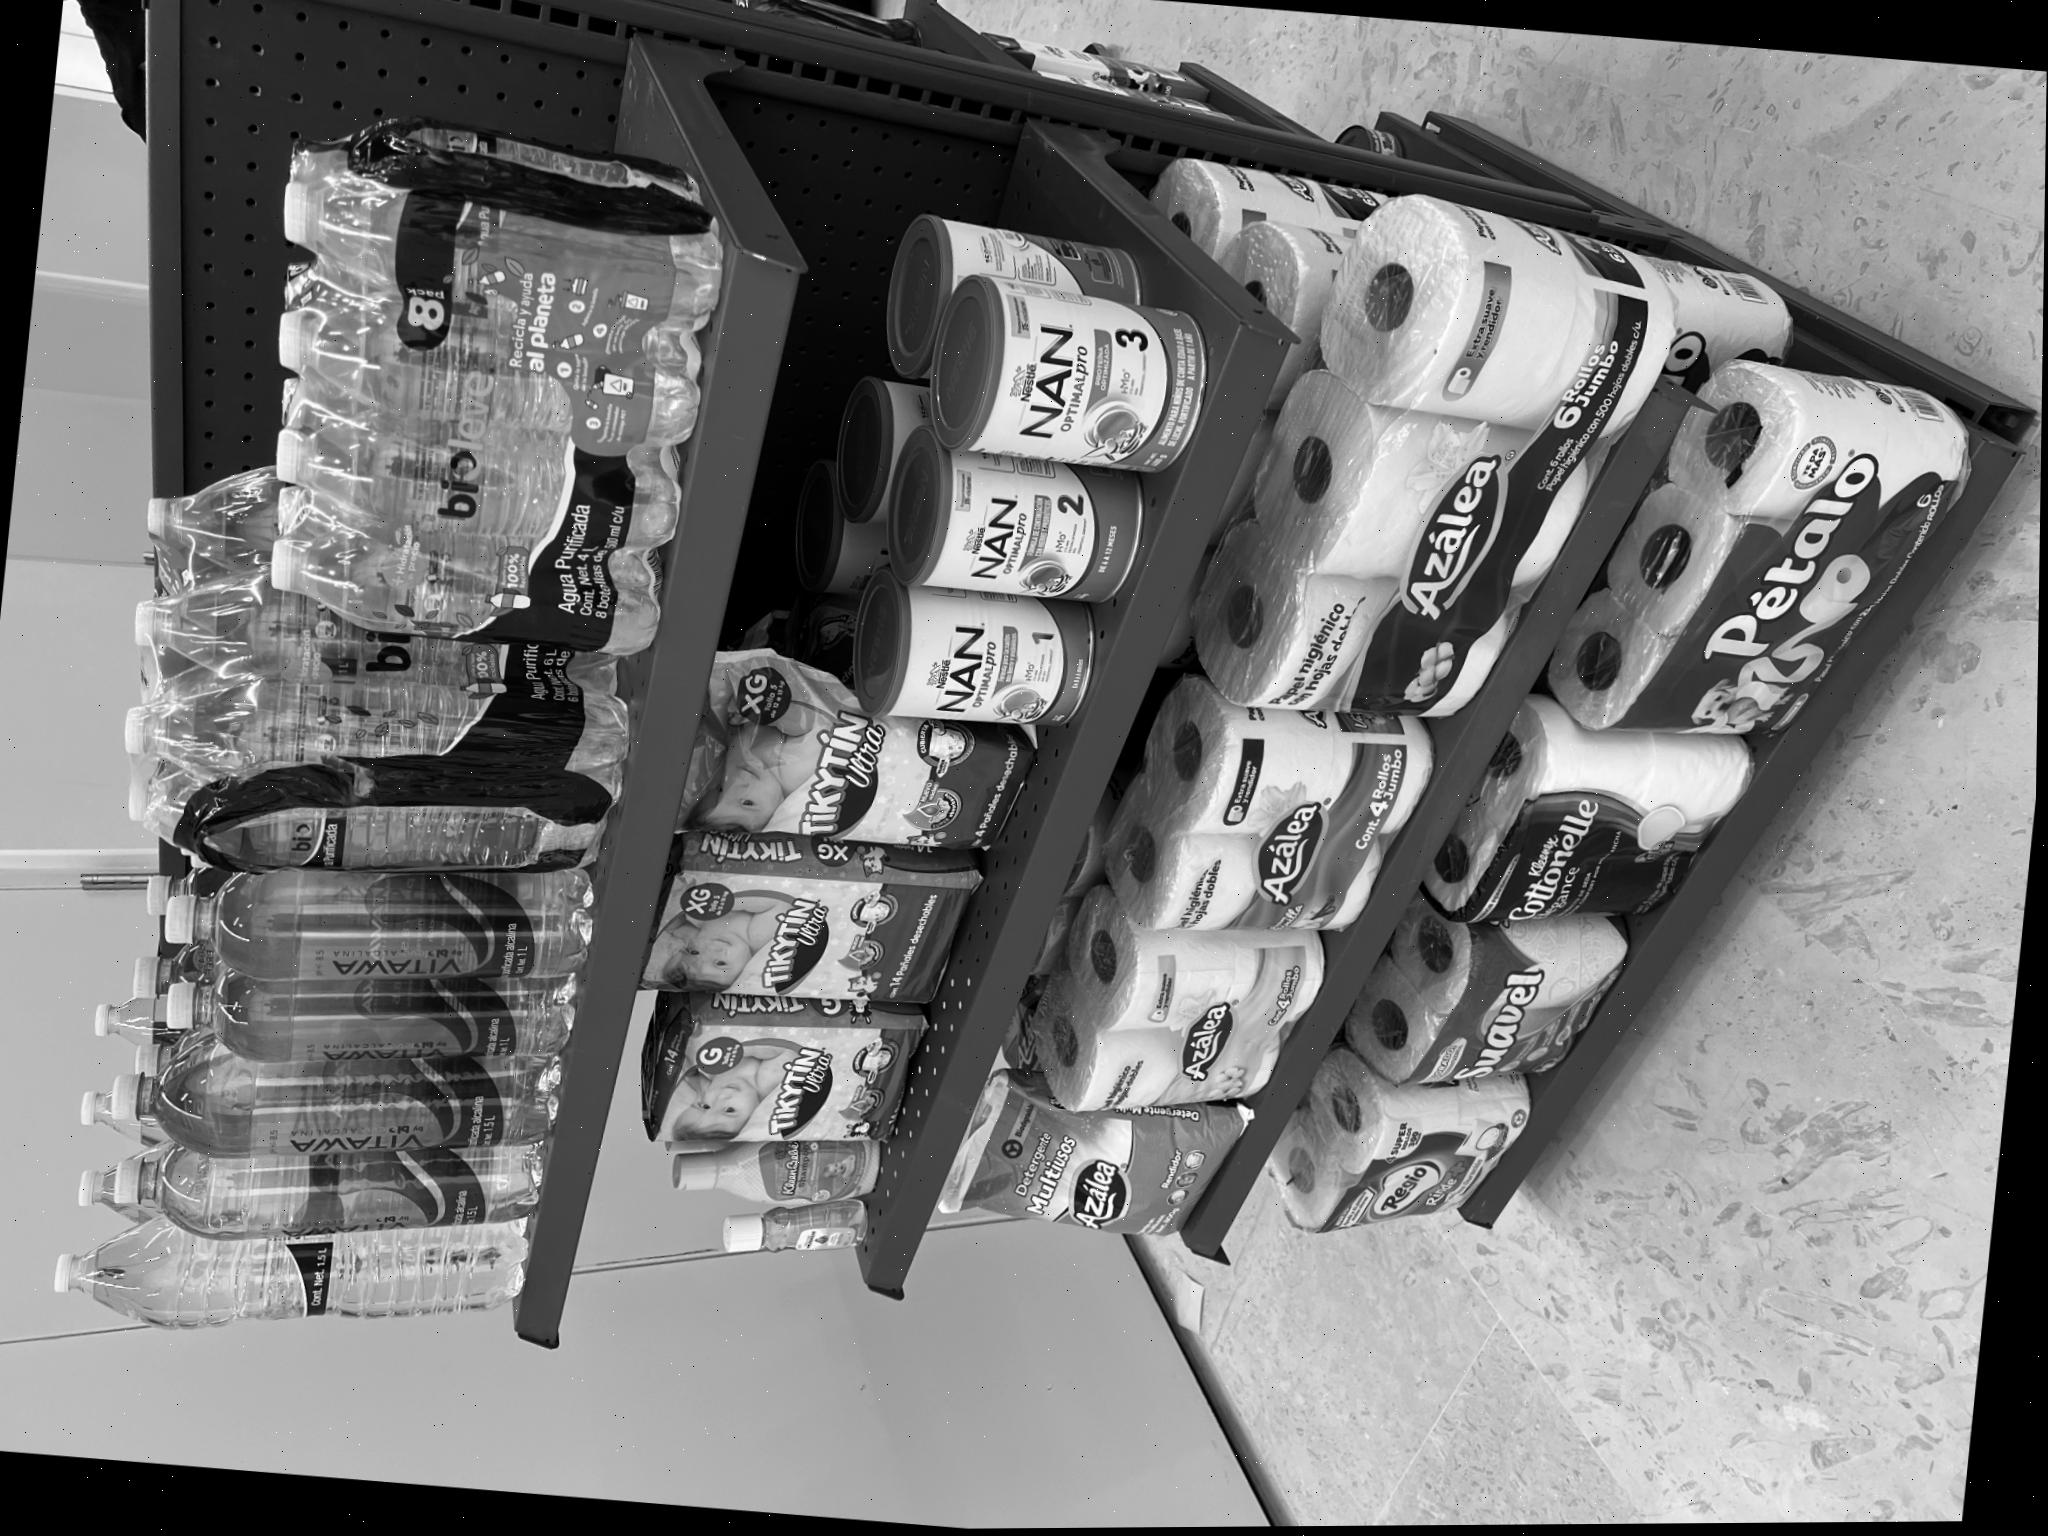aceite_bebe_mennen: (240, 750, 274, 857)
agua_bioleve: (185, 127, 273, 520)
agua_bioleve_6pack: (851, 307, 1334, 687), (639, 134, 813, 602)
agua_vitawa_1L: (524, 232, 635, 573), (440, 223, 527, 555)
agua_vitawa_1_5L: (363, 179, 447, 553), (282, 171, 358, 529)
detergente_azaela: (253, 952, 411, 1234)
nan_nestle_1: (768, 873, 900, 1068)
nan_nestle_2: (893, 907, 1042, 1118)
nan_nestle_3: (1024, 957, 1203, 1168)
panales_tikytin_extragrande: (639, 668, 806, 1016), (489, 620, 635, 957)
panales_tikytin_grande: (360, 642, 479, 910)
papelhigenico_azaela_6rollos: (771, 1241, 1230, 1528)
papelhigenico_azaela_amarillo: (381, 1066, 547, 1312)
papelhigenico_azaela_azul: (558, 1146, 764, 1410)
papelhigenico_regio: (255, 1315, 377, 1481)
papelhigenico_suavel: (402, 1396, 539, 1494)
shampoo_bebe: (295, 733, 356, 870)
